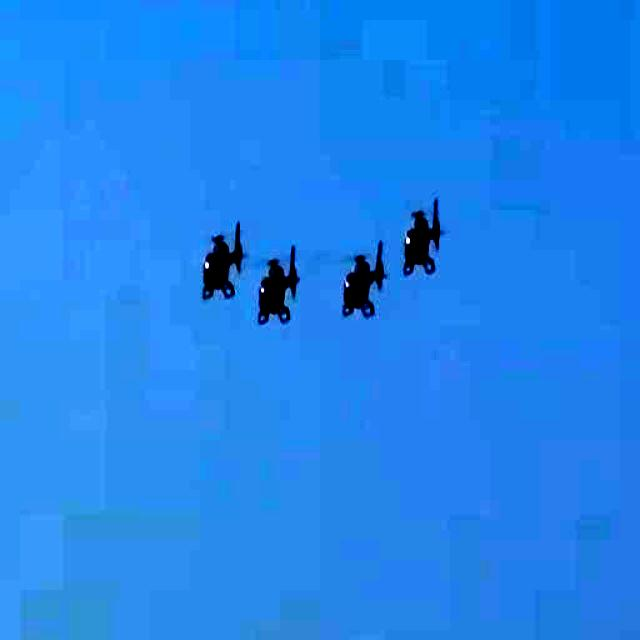drone: (185, 205, 248, 321), (396, 172, 456, 291), (252, 244, 298, 341), (340, 241, 382, 322)
